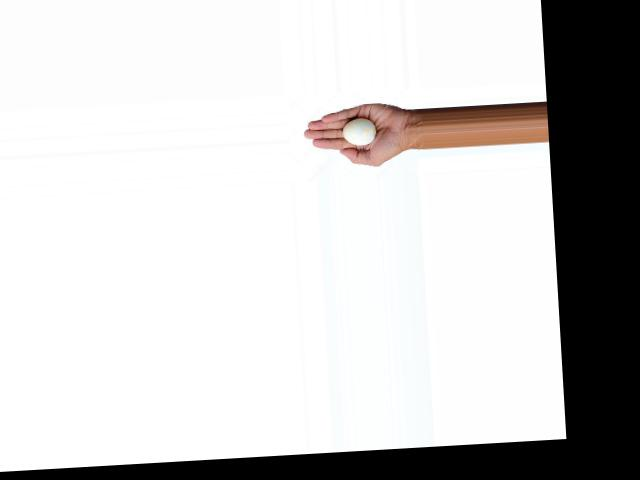egg: (340, 117, 376, 145)
